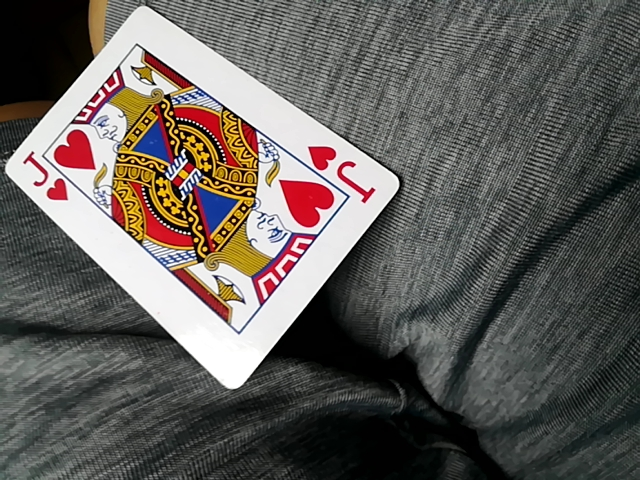hx j: (9, 2, 403, 395)
